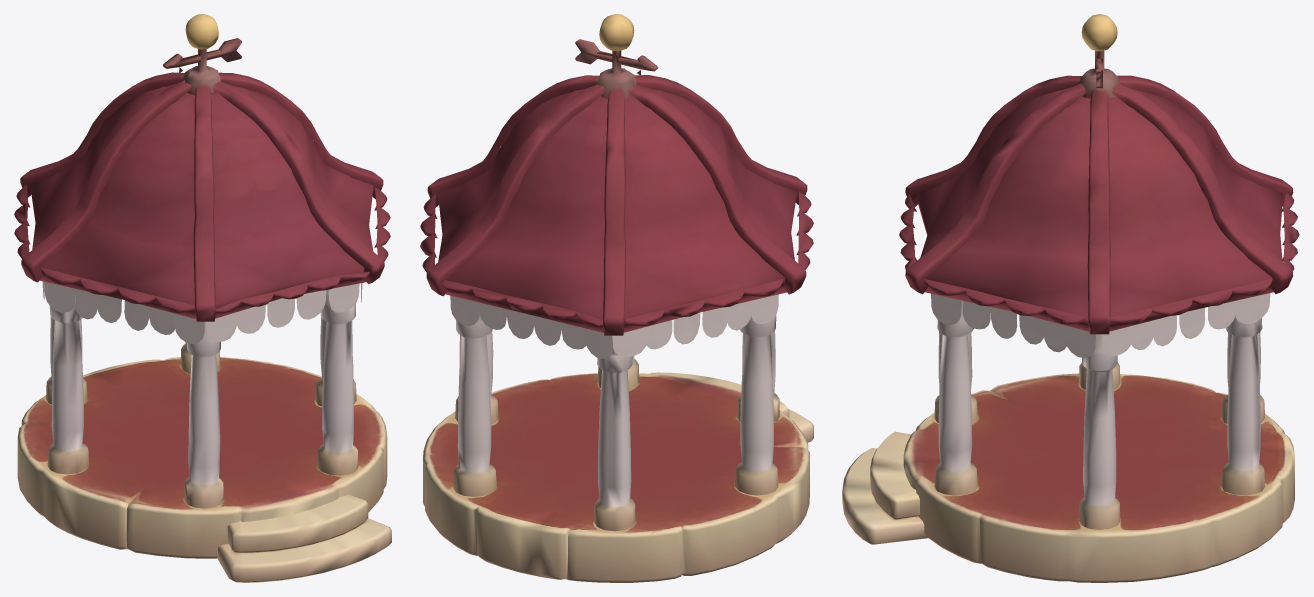
The model's file is garden_gazebo.glb.
3 views of the same model, side by side, from view 1: azimuth 30°, elevation 25°; view 2: azimuth 150°, elevation 25°; view 3: azimuth 270°, elevation 25° (orthographic). The views are drawn at different scales.
Parts seen in each view (by area): view 1: garden_gazebo; view 2: garden_gazebo; view 3: garden_gazebo.
Boxes of the visible parts, x1,y1,x2,y2 form: garden_gazebo: (14, 14, 391, 582); garden_gazebo: (420, 14, 813, 582); garden_gazebo: (842, 14, 1299, 582).
Bounding box in the file's own units: 5.13 × 6.5 × 5.49.
Materials: 1 (1 with a texture image).
